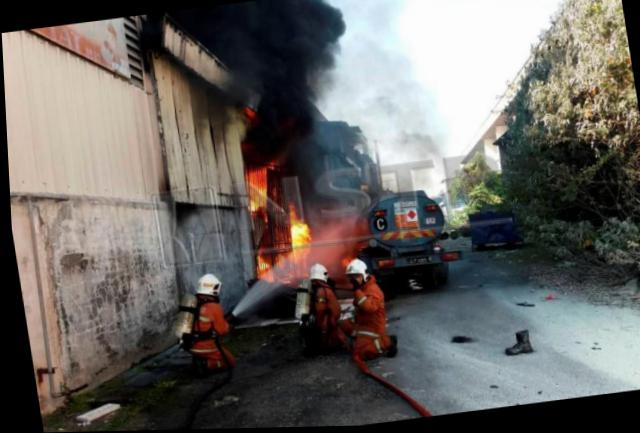fire: (285, 222, 307, 250)
smoke: (341, 0, 447, 163), (247, 0, 358, 127), (312, 118, 370, 209), (208, 4, 255, 71), (288, 121, 322, 202), (379, 156, 452, 192), (238, 126, 288, 166), (133, 15, 167, 70), (174, 8, 210, 48)
